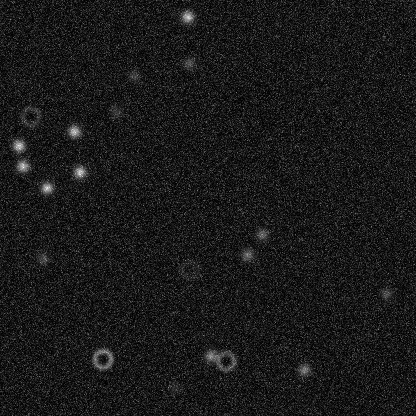Ring: (213, 349, 237, 373), (18, 104, 42, 128), (90, 347, 114, 371), (177, 257, 201, 281)
Spot: (254, 226, 270, 242), (202, 347, 218, 363), (125, 68, 141, 84), (10, 137, 26, 153), (38, 179, 54, 195), (34, 250, 50, 266), (108, 103, 124, 119), (166, 379, 182, 395), (179, 8, 195, 24), (181, 55, 197, 71), (14, 158, 30, 174), (66, 123, 82, 139), (296, 361, 312, 377), (378, 285, 394, 301), (71, 163, 87, 179), (239, 246, 255, 262)
